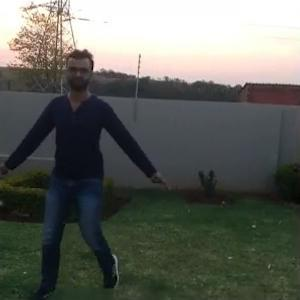land: (31, 72, 142, 235)
